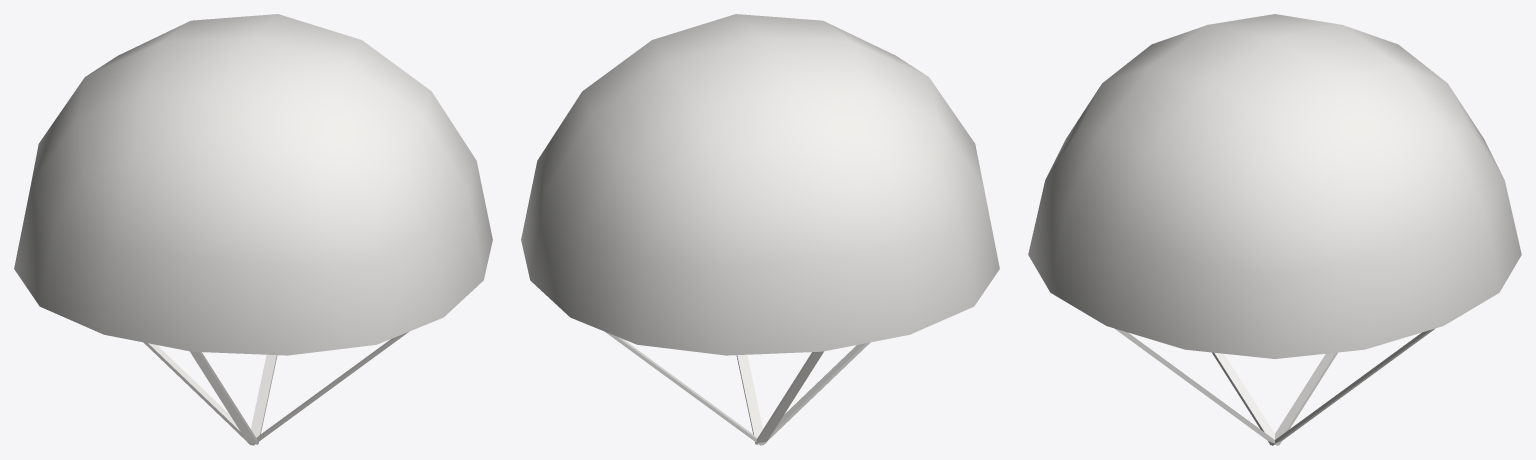
The model's file is Parachute.fbx.
3 views of the same model, side by side, from view 1: azimuth 30°, elevation 25°; view 2: azimuth 150°, elevation 25°; view 3: azimuth 270°, elevation 25° (orthographic).
Parts seen in each view (by area): view 1: Parachute; view 2: Parachute; view 3: Parachute.
Boxes of the visible parts, x1,y1,x2,y2 form: Parachute: (14,14,492,445); Parachute: (521,14,999,445); Parachute: (1028,14,1521,445).
Bounding box in the file's own units: 47.47 × 43.01 × 47.47.
